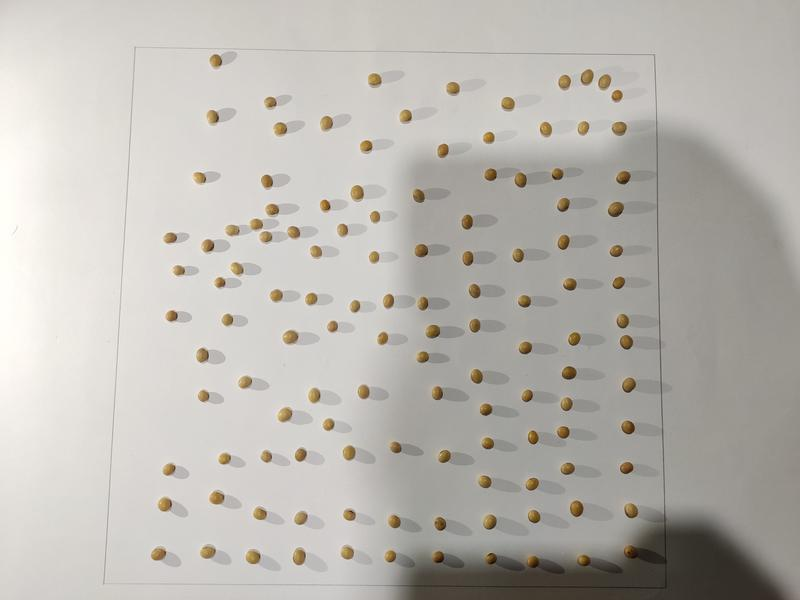Soybean: (480, 510, 503, 535), (278, 328, 305, 349), (290, 544, 310, 569), (242, 545, 264, 564), (473, 473, 497, 490), (196, 543, 219, 560), (553, 194, 573, 213), (206, 487, 226, 506), (200, 235, 218, 256), (150, 543, 168, 564), (377, 292, 397, 310), (465, 282, 485, 300), (155, 495, 175, 513), (432, 515, 450, 535), (608, 198, 625, 219), (385, 513, 406, 530), (460, 210, 476, 232), (246, 214, 265, 232), (275, 406, 294, 424), (340, 445, 359, 463), (382, 547, 400, 566), (339, 544, 358, 562), (613, 170, 633, 187), (560, 365, 580, 382), (597, 70, 613, 91), (560, 275, 581, 291), (567, 328, 583, 349), (621, 503, 643, 518), (575, 118, 593, 136), (608, 243, 626, 261), (219, 312, 237, 330), (346, 297, 364, 315), (523, 475, 541, 493), (515, 339, 534, 356), (621, 376, 638, 395), (468, 368, 485, 387), (518, 387, 536, 404), (207, 52, 223, 71), (578, 69, 597, 85), (610, 121, 629, 137), (286, 224, 305, 240), (195, 345, 210, 365), (235, 375, 255, 390), (423, 325, 446, 338), (222, 224, 243, 238), (610, 274, 627, 291), (413, 241, 430, 258), (211, 275, 228, 292), (302, 291, 319, 308), (467, 318, 484, 335), (388, 440, 405, 457), (555, 423, 572, 440), (483, 165, 499, 183), (163, 308, 181, 324), (307, 386, 323, 404), (293, 511, 311, 527), (525, 552, 541, 570), (482, 551, 500, 567), (349, 183, 364, 202), (556, 233, 571, 252), (525, 427, 540, 446), (397, 108, 413, 125), (161, 231, 178, 247), (308, 243, 324, 260), (335, 223, 352, 239), (619, 334, 635, 351), (375, 330, 391, 347), (478, 437, 495, 453), (623, 543, 639, 560), (267, 288, 285, 303), (324, 319, 342, 334), (618, 461, 636, 476), (461, 250, 475, 269), (559, 462, 578, 476), (620, 420, 636, 436), (271, 122, 288, 137), (445, 81, 460, 98), (610, 87, 625, 104), (511, 247, 526, 264), (263, 201, 280, 216), (253, 505, 268, 522), (614, 314, 632, 328), (216, 452, 234, 466), (570, 500, 584, 518), (527, 508, 541, 526), (438, 447, 451, 466), (558, 74, 573, 90), (367, 250, 382, 266), (516, 293, 532, 308), (259, 450, 275, 465), (430, 549, 446, 564), (320, 115, 334, 132), (411, 187, 425, 204), (229, 262, 246, 276), (416, 295, 430, 312), (560, 396, 574, 413), (262, 96, 278, 110), (359, 140, 375, 154), (480, 131, 496, 145), (540, 121, 554, 137), (513, 172, 527, 188), (357, 384, 371, 400), (293, 447, 307, 463), (575, 554, 591, 568), (190, 171, 207, 184), (320, 418, 337, 431), (342, 509, 359, 522), (204, 110, 219, 124), (367, 73, 382, 87), (500, 96, 515, 110), (436, 143, 450, 158), (416, 350, 431, 364), (431, 386, 445, 401), (479, 403, 494, 417), (369, 210, 382, 226), (171, 264, 187, 277), (161, 463, 177, 476), (550, 167, 565, 180), (261, 173, 273, 189), (259, 231, 275, 243), (196, 390, 210, 403), (319, 200, 332, 212)
